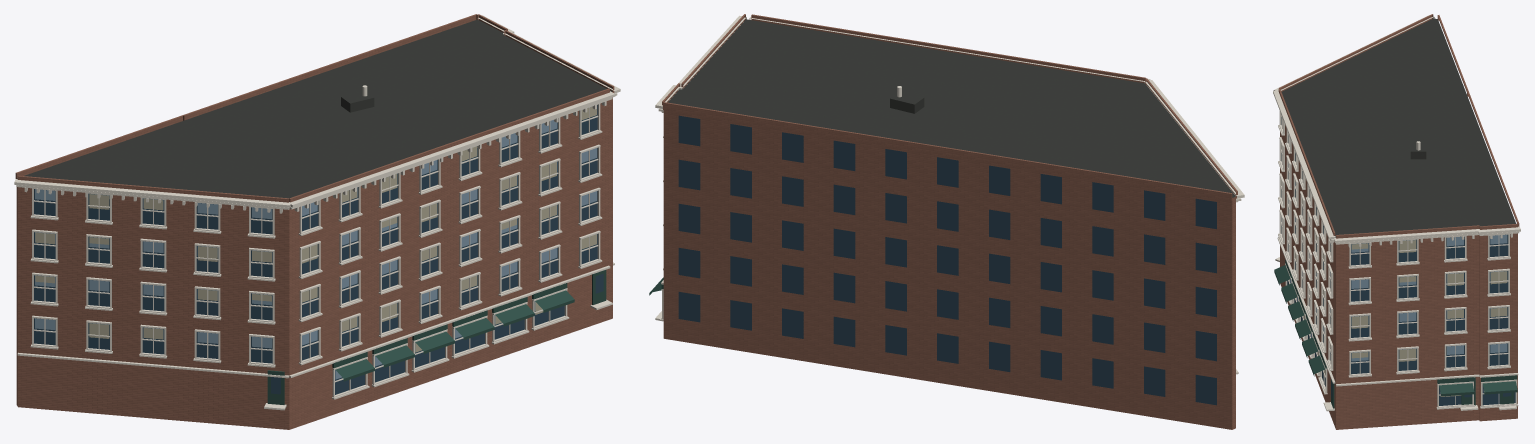
The picture shows the model from 3 angles, left to right: view 1: azimuth 30°, elevation 25°; view 2: azimuth 150°, elevation 25°; view 3: azimuth 270°, elevation 25°; orthographic projection. The views are drawn at different scales.
Visible parts, largest first — view 1: Footprint 0 / surface 2, Footprint 0 / surface 1, Cornices and window frames, Inset glazing, Facade bay volumes, Interior blind variation, Sky reflection panels, Storefronts and doors; view 2: Footprint 0 / surface 2, Footprint 0 / surface 1, Inset glazing, Facade bay volumes, Cornices and window frames; view 3: Footprint 0 / surface 1, Footprint 0 / surface 2, Cornices and window frames, Inset glazing, Storefronts and doors, Facade bay volumes, Interior blind variation, Sky reflection panels.
Boxes of the visible parts, x1,y1,x2,y2 form: Footprint 0 / surface 2: (16, 92, 612, 429); Footprint 0 / surface 1: (17, 19, 612, 198); Cornices and window frames: (14, 15, 620, 410); Inset glazing: (34, 105, 603, 394); Facade bay volumes: (15, 14, 614, 202); Interior blind variation: (35, 106, 596, 352); Sky reflection panels: (35, 120, 596, 379); Storefronts and doors: (267, 270, 606, 404); Footprint 0 / surface 2: (663, 110, 1235, 429); Footprint 0 / surface 1: (668, 19, 1235, 197); Inset glazing: (678, 115, 1216, 405); Facade bay volumes: (662, 14, 1237, 200); Cornices and window frames: (655, 15, 1244, 374); Footprint 0 / surface 1: (1281, 18, 1516, 237); Footprint 0 / surface 2: (1280, 125, 1517, 429); Cornices and window frames: (1273, 15, 1520, 411); Inset glazing: (1281, 117, 1515, 405); Storefronts and doors: (1274, 259, 1517, 408); Facade bay volumes: (1278, 14, 1519, 238); Interior blind variation: (1281, 145, 1507, 396); Sky reflection panels: (1281, 163, 1507, 393).
Size of the model in its own units: 41.06 by 17.46 by 19.02.
